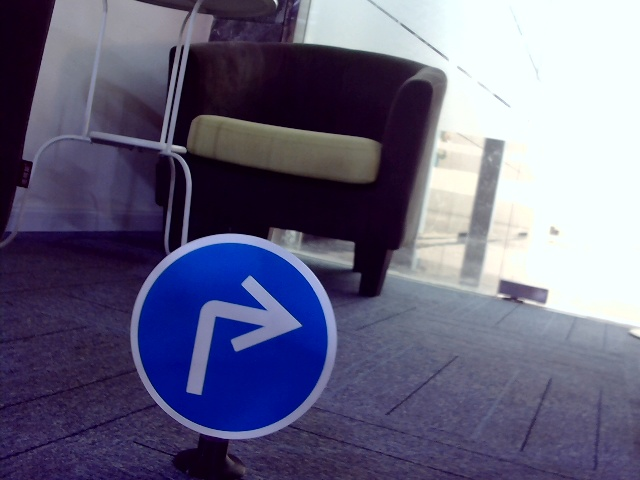turn_right: (176, 271, 301, 392)
